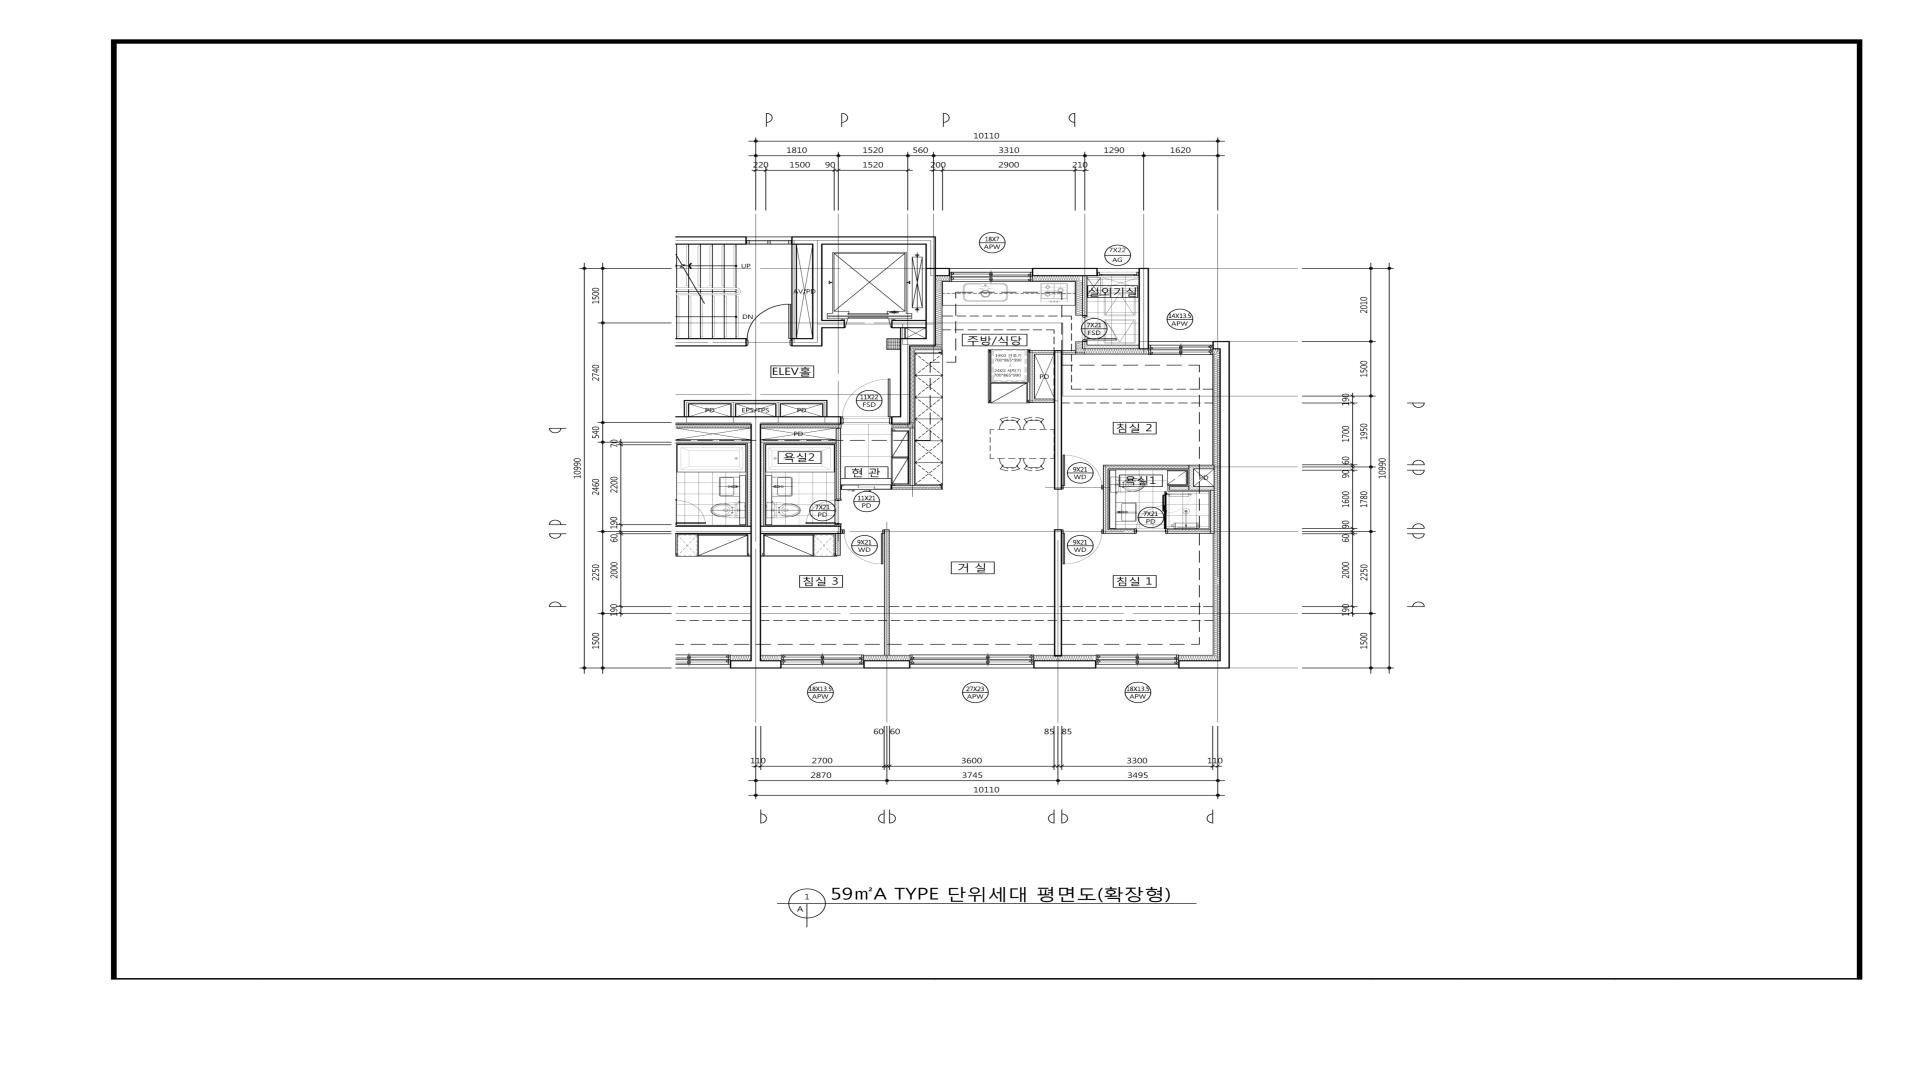door: (841, 378, 891, 424), (746, 304, 792, 346), (1062, 529, 1104, 565), (1062, 454, 1103, 489), (842, 530, 884, 564), (806, 499, 842, 525), (1135, 505, 1167, 534), (1082, 316, 1117, 341), (841, 484, 892, 490)
wall: (1219, 341, 1230, 660), (750, 425, 761, 669), (675, 416, 841, 425), (792, 236, 936, 245), (1054, 350, 1062, 490), (812, 245, 822, 347), (1054, 529, 1062, 656), (926, 245, 936, 346), (1139, 268, 1149, 349), (900, 346, 910, 425), (675, 236, 747, 245), (761, 526, 841, 534), (884, 530, 889, 655), (675, 338, 747, 346), (684, 400, 827, 404), (1034, 660, 1096, 669), (791, 245, 797, 338), (1033, 268, 1097, 276), (864, 660, 910, 669), (1179, 660, 1230, 668), (1103, 469, 1109, 534), (764, 439, 836, 444), (836, 428, 841, 499), (1103, 465, 1189, 469), (909, 428, 915, 485), (891, 320, 926, 328), (1030, 350, 1035, 403), (761, 439, 764, 526), (1167, 529, 1210, 534), (1087, 345, 1139, 349), (900, 338, 926, 346), (892, 485, 942, 489), (1082, 276, 1087, 316), (822, 320, 845, 328), (761, 660, 781, 669), (1210, 490, 1214, 534), (792, 338, 812, 346), (835, 534, 841, 556), (1109, 529, 1135, 534), (1189, 465, 1194, 490), (936, 268, 950, 276), (1169, 486, 1189, 491), (1194, 486, 1215, 490), (891, 416, 900, 425), (1194, 465, 1214, 469), (1035, 350, 1054, 354), (1035, 399, 1054, 403), (775, 404, 781, 416), (730, 404, 736, 416), (822, 404, 827, 416), (684, 404, 689, 416), (1062, 350, 1076, 354), (1213, 341, 1220, 349), (1082, 341, 1087, 349), (836, 525, 841, 526), (841, 529, 842, 534)
window: (910, 655, 1034, 668), (950, 268, 1033, 282), (1096, 654, 1179, 668), (781, 655, 864, 668), (1148, 341, 1213, 355), (1097, 268, 1139, 276), (747, 237, 792, 244)
